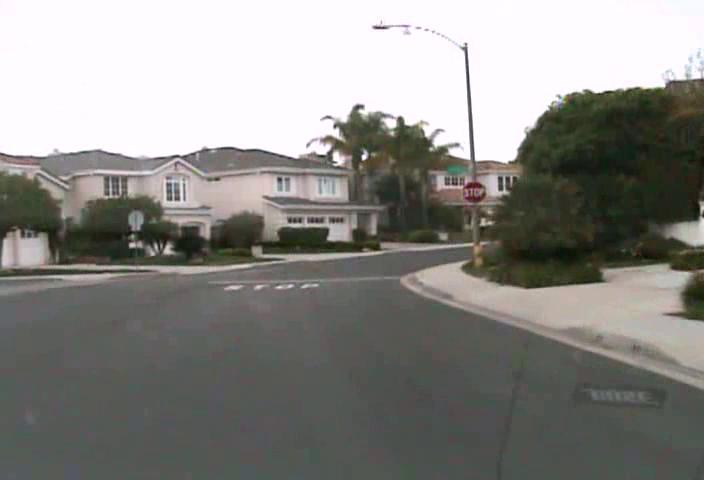stop: (461, 179, 486, 204)
